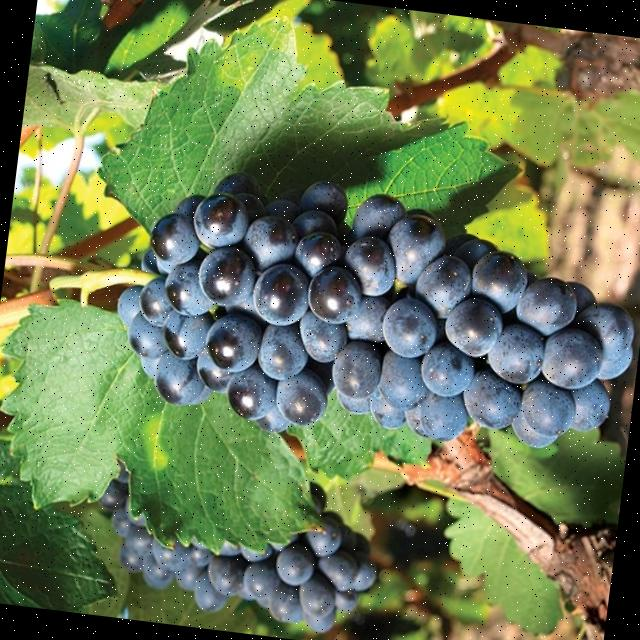grape: (124, 174, 632, 447), (98, 469, 375, 633)
